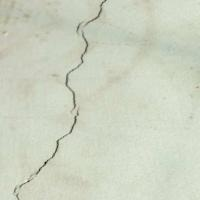crack: (10, 1, 123, 199)
